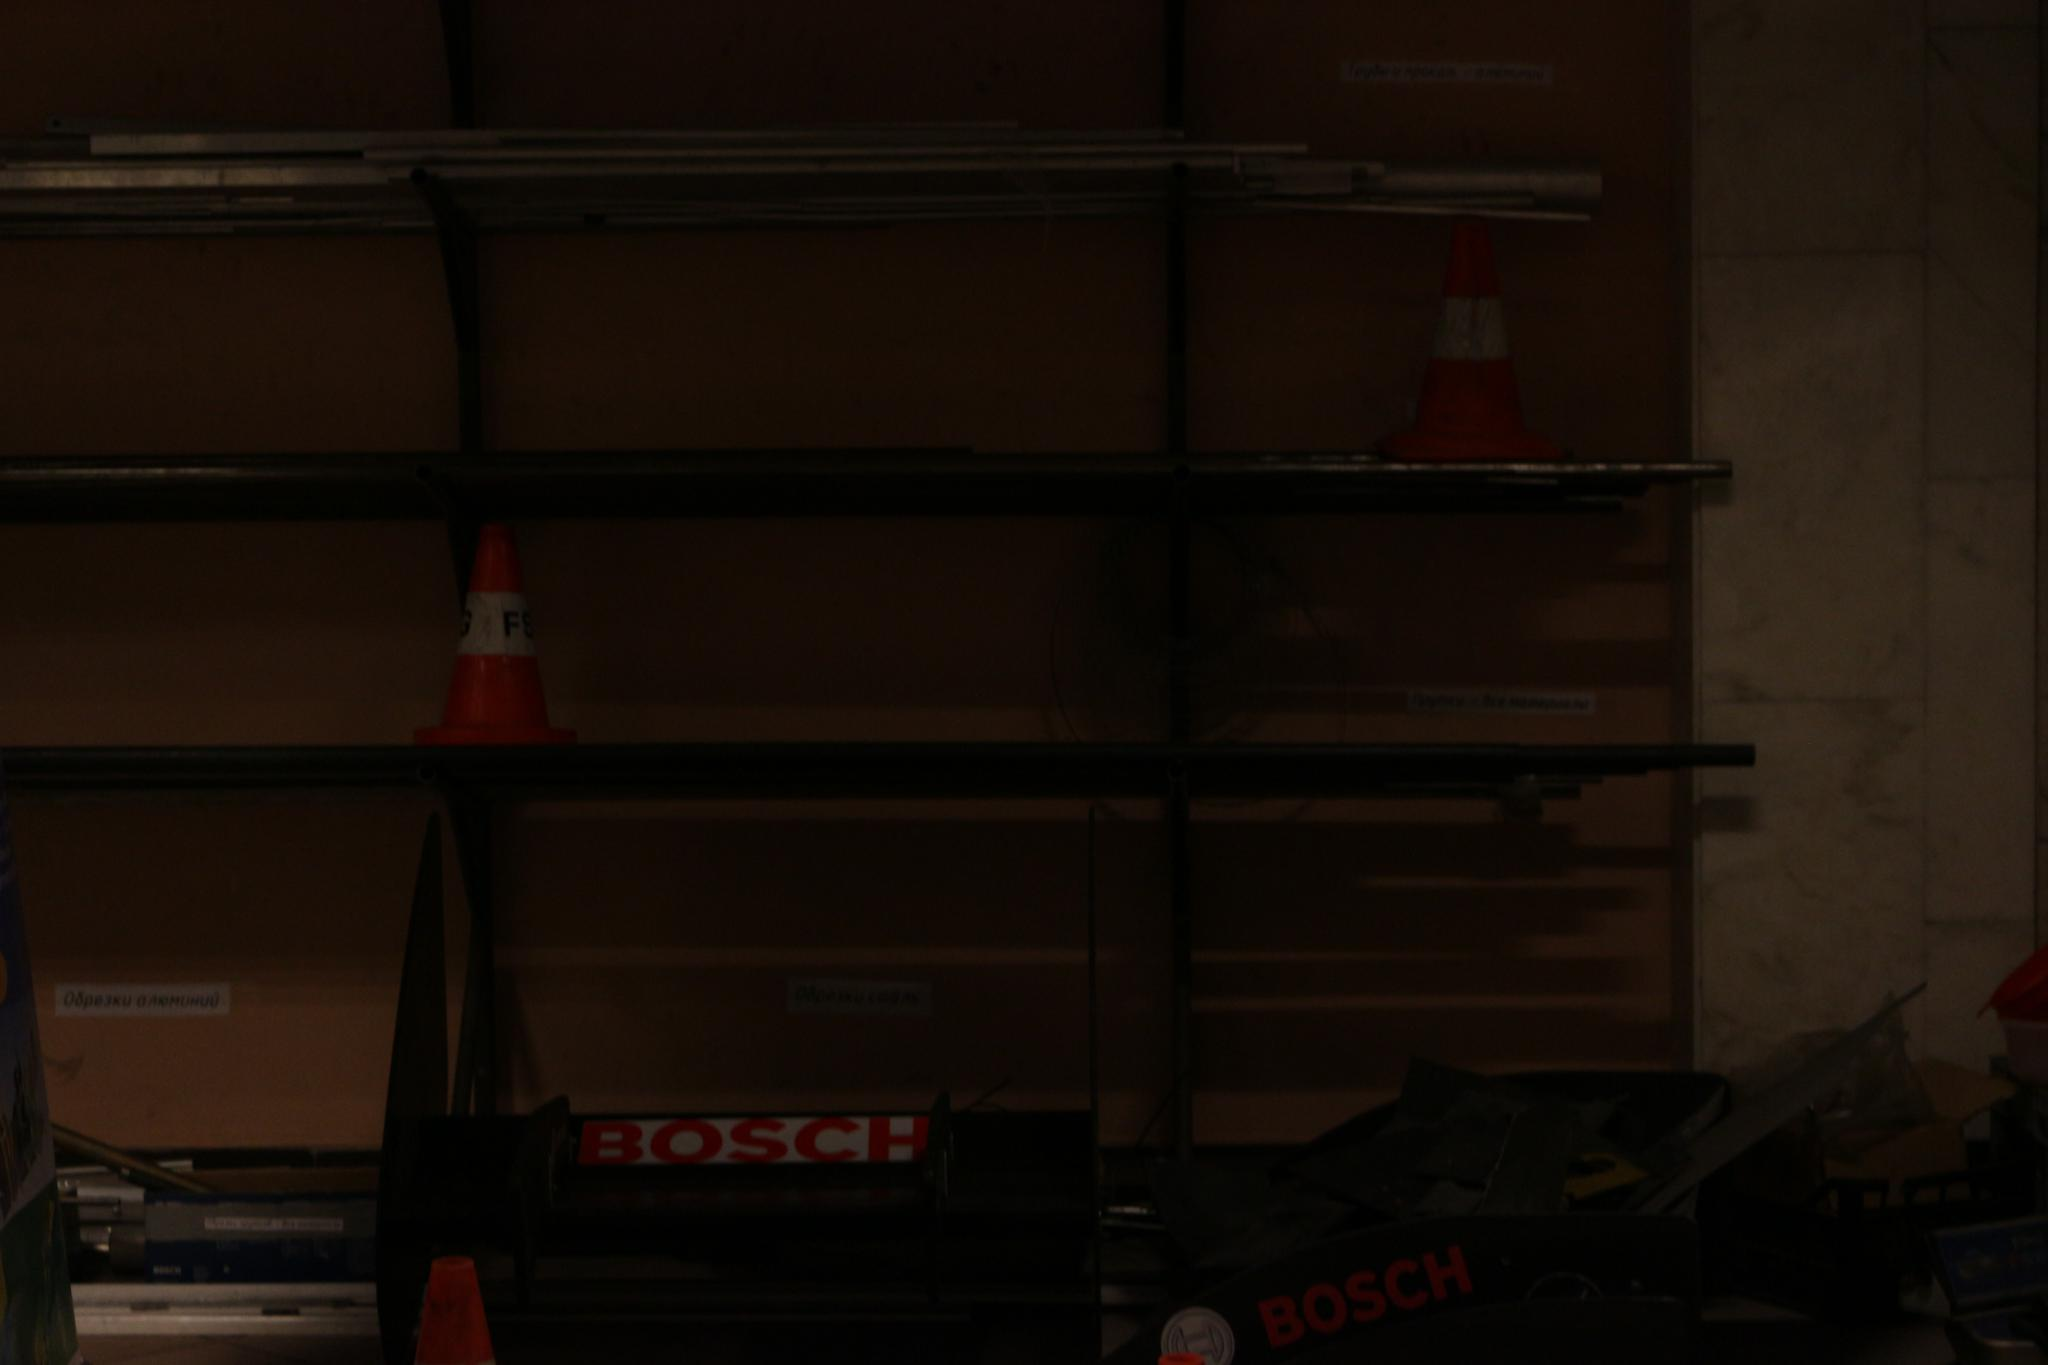Orange_Cone: (388, 521, 577, 759), (1380, 224, 1547, 466)
